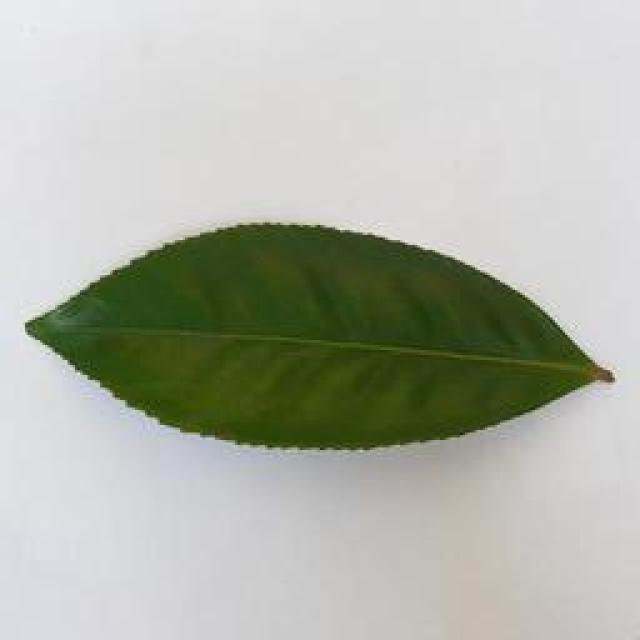Healthy: (22, 220, 626, 457)
